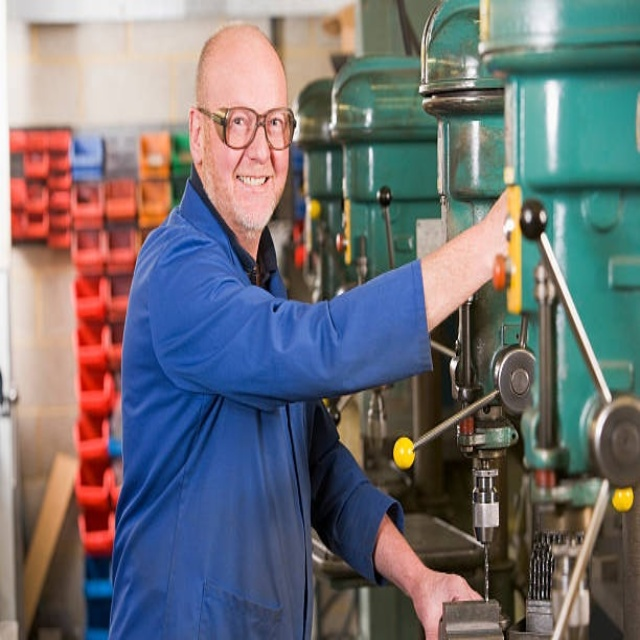Gafas: (197, 105, 297, 151)
Sin_guantes: (417, 570, 486, 640)
Sin_mascara: (229, 166, 274, 212)
